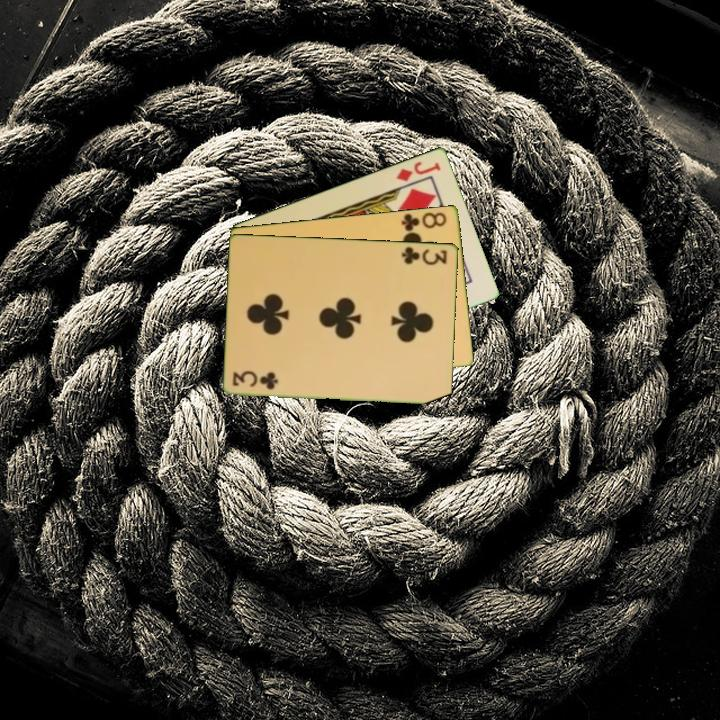3c: (398, 243, 450, 268), (229, 369, 281, 392)
8c: (398, 208, 450, 236)
Jd: (392, 157, 443, 184)
